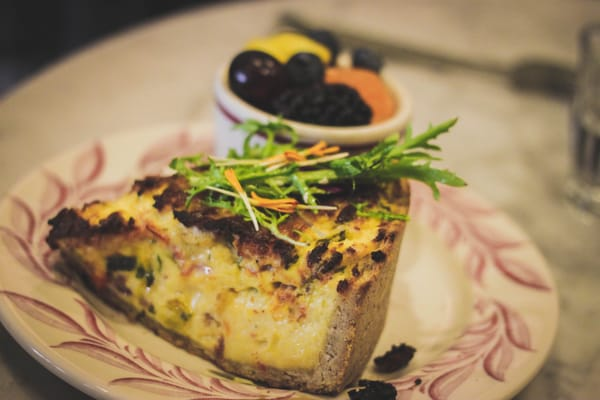sushi: (212, 31, 415, 153)
